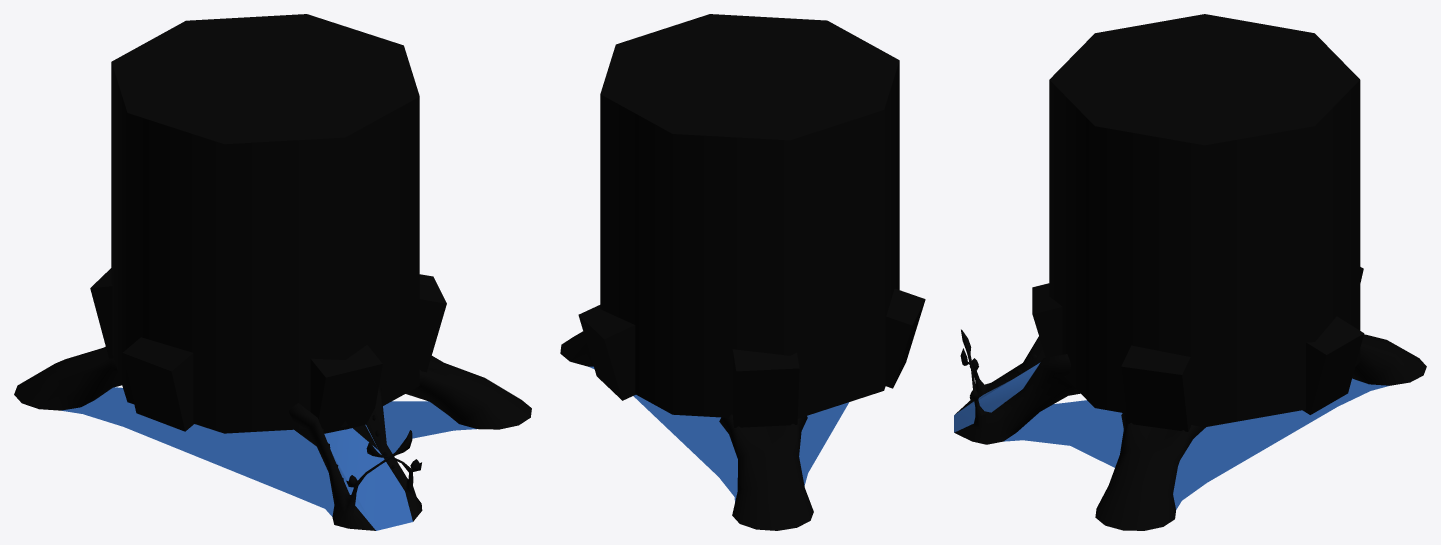
The model's file is mairie-annexe-all06.max.fobj.obj.
3 renders of one model, left to right at view 1: azimuth 30°, elevation 25°; view 2: azimuth 150°, elevation 25°; view 3: azimuth 270°, elevation 25°, orthographic. The views are drawn at different scales.
Parts seen in each view (by area): view 1: initialShadingGroup cluster_mairie_annexe, ma_annexe_ext, ma_annexe_col_ext, initialShadingGroup cluster_fen04_mairie_annexe, initialShadingGroup cluster_porte_mairie_annexe, ma_annexe_col_int, initialShadingGroup cluster_fen01_mairie_annexe, initialShadingGroup cluster_fen02_mairie_annexe; view 2: initialShadingGroup cluster_mairie_annexe, ma_annexe_ext, ma_annexe_col_ext, initialShadingGroup cluster_fen02_mairie_annexe, initialShadingGroup cluster_fen03_mairie_annexe, initialShadingGroup cluster_fen04_mairie_annexe; view 3: initialShadingGroup cluster_mairie_annexe, ma_annexe_ext, ma_annexe_col_ext, initialShadingGroup cluster_fen01_mairie_annexe, initialShadingGroup cluster_fen03_mairie_annexe, initialShadingGroup cluster_porte_mairie_annexe, ma_annexe_col_int.
Boxes of the visible parts, x1=… form: initialShadingGroup cluster_mairie_annexe: x1=111, y1=14, x2=419, y2=433; ma_annexe_ext: x1=14, y1=346, x2=531, y2=530; ma_annexe_col_ext: x1=61, y1=387, x2=476, y2=516; initialShadingGroup cluster_fen04_mairie_annexe: x1=122, y1=337, x2=193, y2=431; initialShadingGroup cluster_porte_mairie_annexe: x1=310, y1=345, x2=382, y2=433; ma_annexe_col_int: x1=324, y1=424, x2=412, y2=530; initialShadingGroup cluster_fen01_mairie_annexe: x1=419, y1=274, x2=446, y2=372; initialShadingGroup cluster_fen02_mairie_annexe: x1=90, y1=268, x2=113, y2=358; initialShadingGroup cluster_mairie_annexe: x1=600, y1=14, x2=899, y2=418; ma_annexe_ext: x1=560, y1=331, x2=813, y2=530; ma_annexe_col_ext: x1=588, y1=366, x2=849, y2=501; initialShadingGroup cluster_fen02_mairie_annexe: x1=732, y1=349, x2=799, y2=427; initialShadingGroup cluster_fen03_mairie_annexe: x1=578, y1=305, x2=635, y2=400; initialShadingGroup cluster_fen04_mairie_annexe: x1=885, y1=288, x2=925, y2=388; initialShadingGroup cluster_mairie_annexe: x1=1049, y1=14, x2=1360, y2=427; ma_annexe_ext: x1=954, y1=329, x2=1426, y2=530; ma_annexe_col_ext: x1=1003, y1=378, x2=1389, y2=509; initialShadingGroup cluster_fen01_mairie_annexe: x1=1121, y1=345, x2=1190, y2=431; initialShadingGroup cluster_fen03_mairie_annexe: x1=1303, y1=316, x2=1364, y2=414; initialShadingGroup cluster_porte_mairie_annexe: x1=1032, y1=283, x2=1062, y2=357; ma_annexe_col_int: x1=954, y1=362, x2=1040, y2=432.
Bounding box in the file's own units: 2478 × 2198 × 2737.
